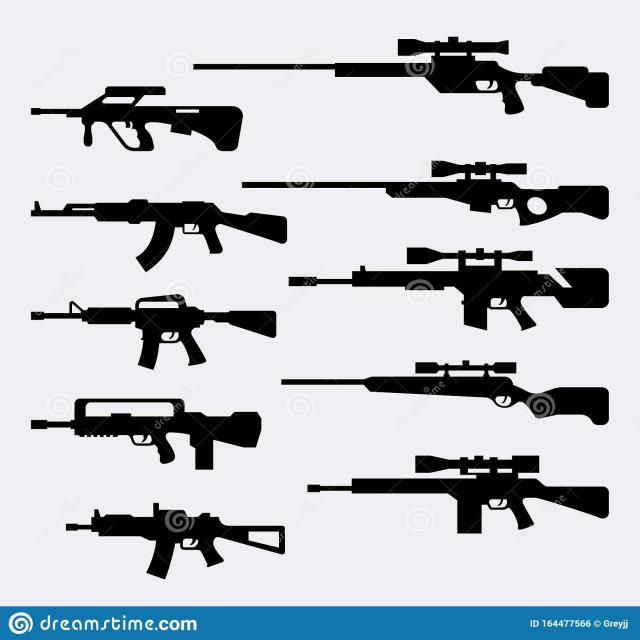Weapon: (190, 36, 611, 116), (282, 243, 612, 334), (306, 451, 613, 538), (240, 158, 618, 228), (278, 357, 616, 431), (28, 192, 291, 274), (26, 290, 280, 369), (60, 500, 292, 581), (30, 395, 262, 472), (26, 84, 249, 156)
